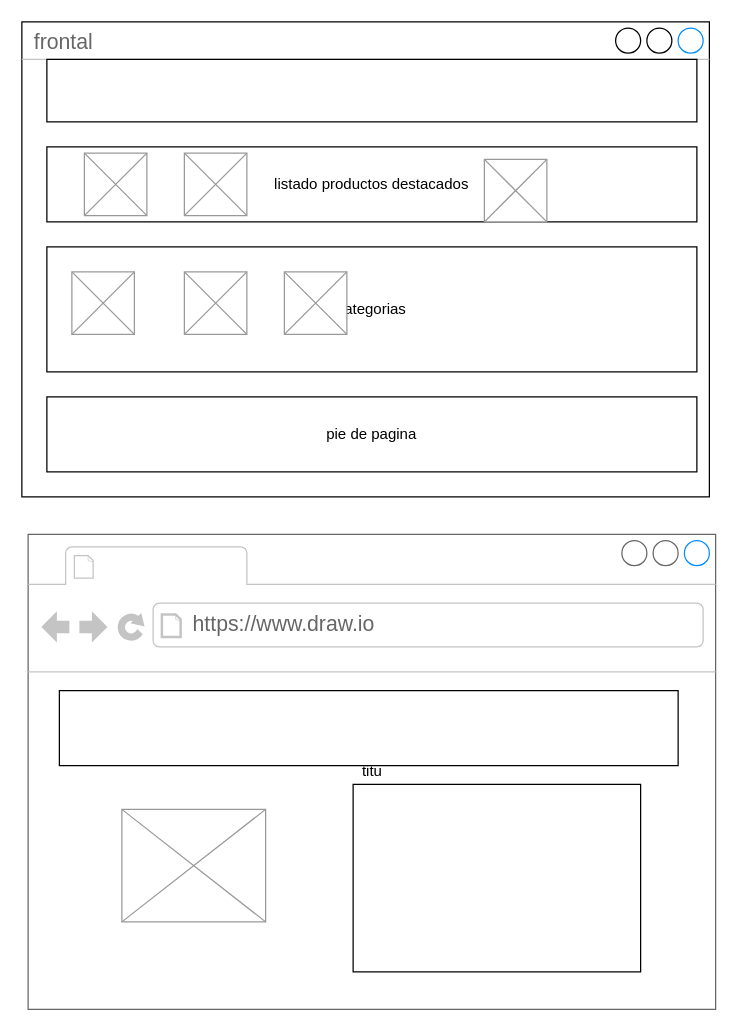
Image size: 738x1031. Some labels were removed from this diagram. The shapes that lost their labels are listed below. From the top down, each one's centre as x and y in pixels, then its label:
At point 371,90: "encabezado".
At point 171,565: "Page 1".
At point 368,727: "titulo".
